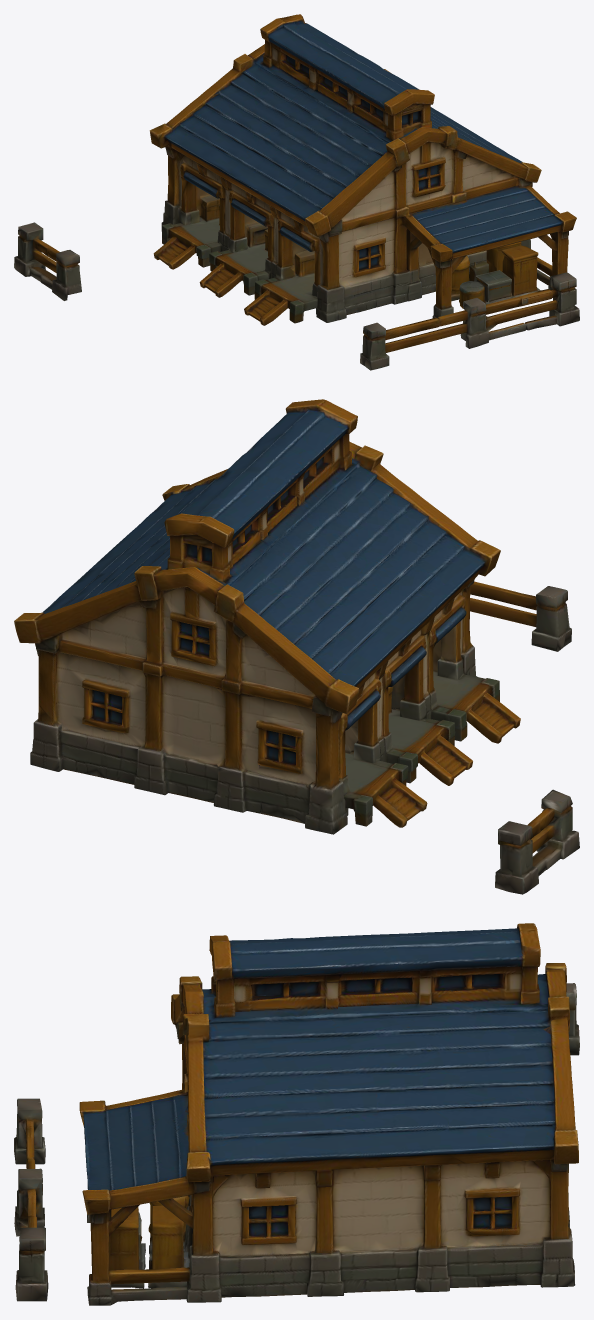
Rendered from depot.glb.
3 views of the same model, one above another, from view 1: azimuth 30°, elevation 25°; view 2: azimuth 150°, elevation 25°; view 3: azimuth 270°, elevation 25° (orthographic). The views are drawn at different scales.
Visible parts, largest first — view 1: tripo_node_53e93e37-47cc-4399-b498-b4bfe37177d3; view 2: tripo_node_53e93e37-47cc-4399-b498-b4bfe37177d3; view 3: tripo_node_53e93e37-47cc-4399-b498-b4bfe37177d3.
Part boxes in pixels (x1=…): tripo_node_53e93e37-47cc-4399-b498-b4bfe37177d3: x1=14, y1=14, x2=579, y2=370; tripo_node_53e93e37-47cc-4399-b498-b4bfe37177d3: x1=14, y1=399, x2=579, y2=894; tripo_node_53e93e37-47cc-4399-b498-b4bfe37177d3: x1=14, y1=923, x2=579, y2=1305.
Bounding box in the file's own units: 1 × 0.493 × 0.869.
Materials: 1 (1 with a texture image).
